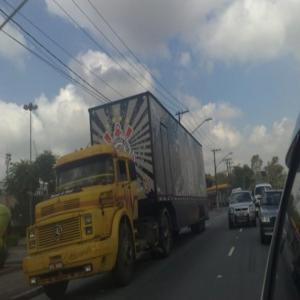Vehicle-registration-plate: (50, 264, 64, 274)
